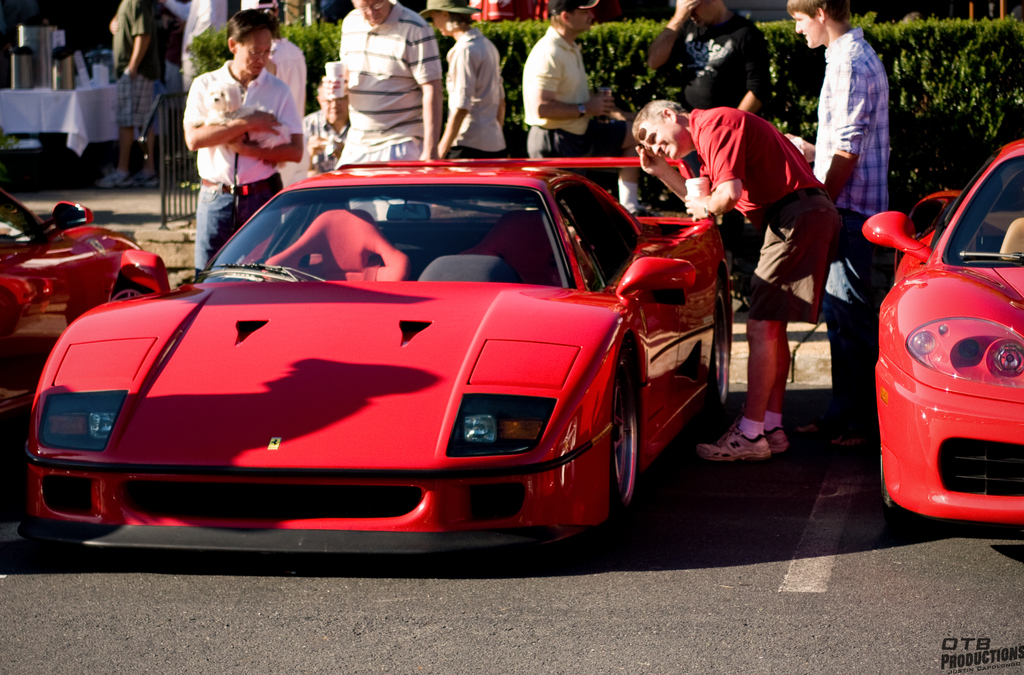Person: (96, 0, 888, 460)
